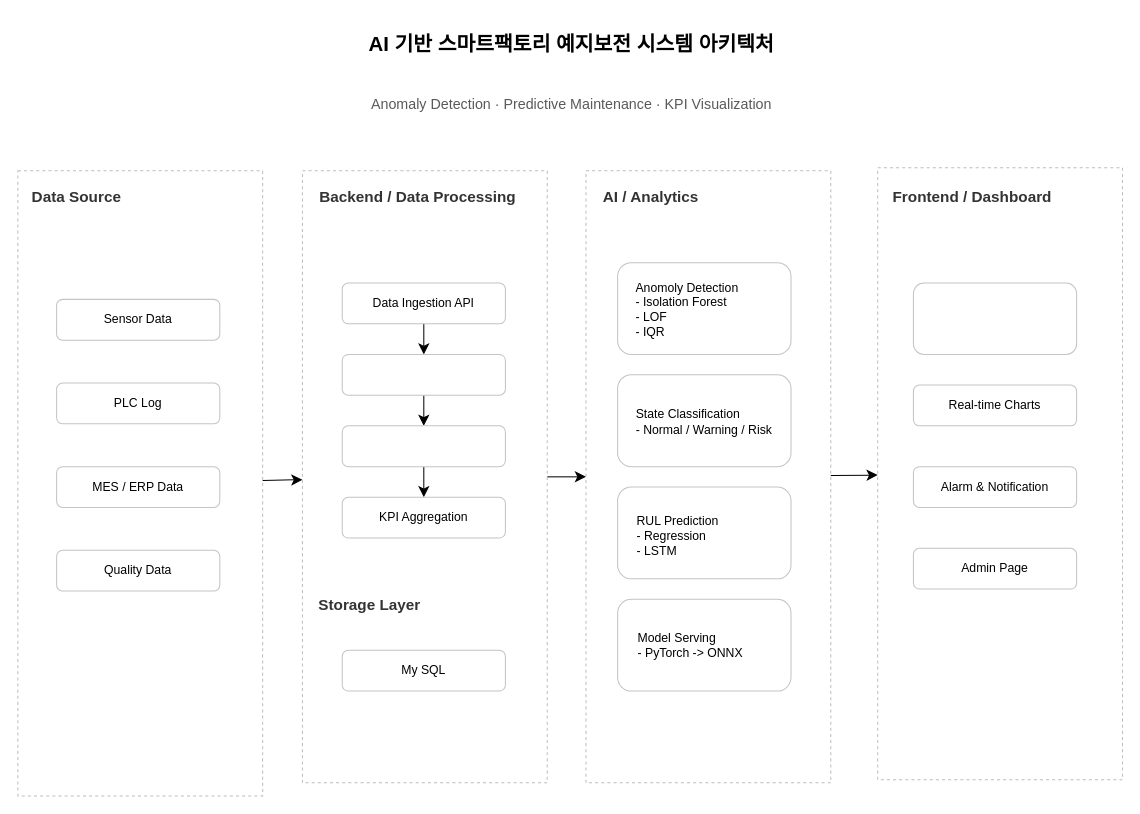
Some shapes in this 1140 by 814 pixel diagram are drawn without their labels. The shapes that lost their labels are listed below. From the top down, each one's box as (x1, y1, x2, y2) in pixels, then its label:
(912, 282, 1077, 354): KPI Cards -Equipment Health KPI - Production Impact KPI - Quality Risk KPI
(341, 353, 505, 395): Data Validation
(341, 425, 505, 467): Feature Engineering
